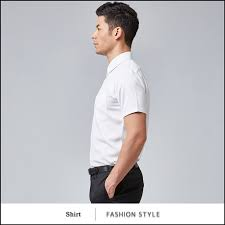F_shirt: (88, 51, 151, 167)
